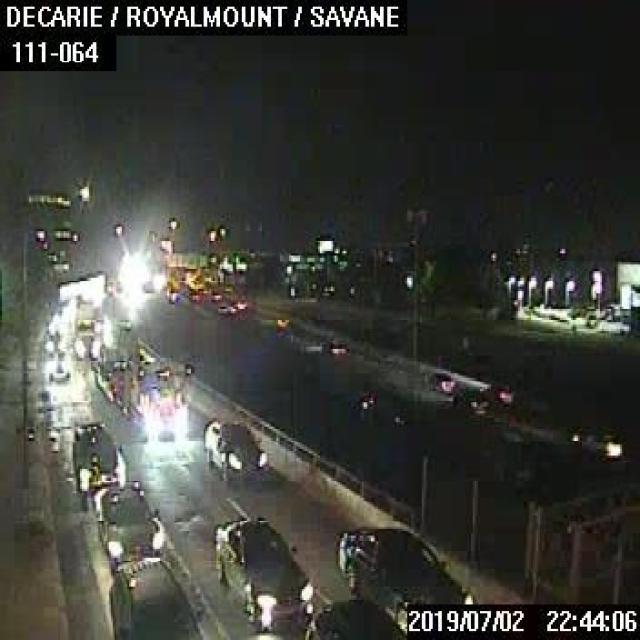vehicle: (336, 514, 476, 628), (210, 514, 314, 630), (111, 554, 204, 638), (89, 480, 166, 560), (70, 418, 127, 495), (200, 416, 265, 482), (564, 427, 622, 458), (72, 304, 95, 357), (448, 386, 488, 414), (424, 369, 454, 393), (482, 385, 513, 407), (351, 391, 376, 411), (327, 336, 347, 356)
